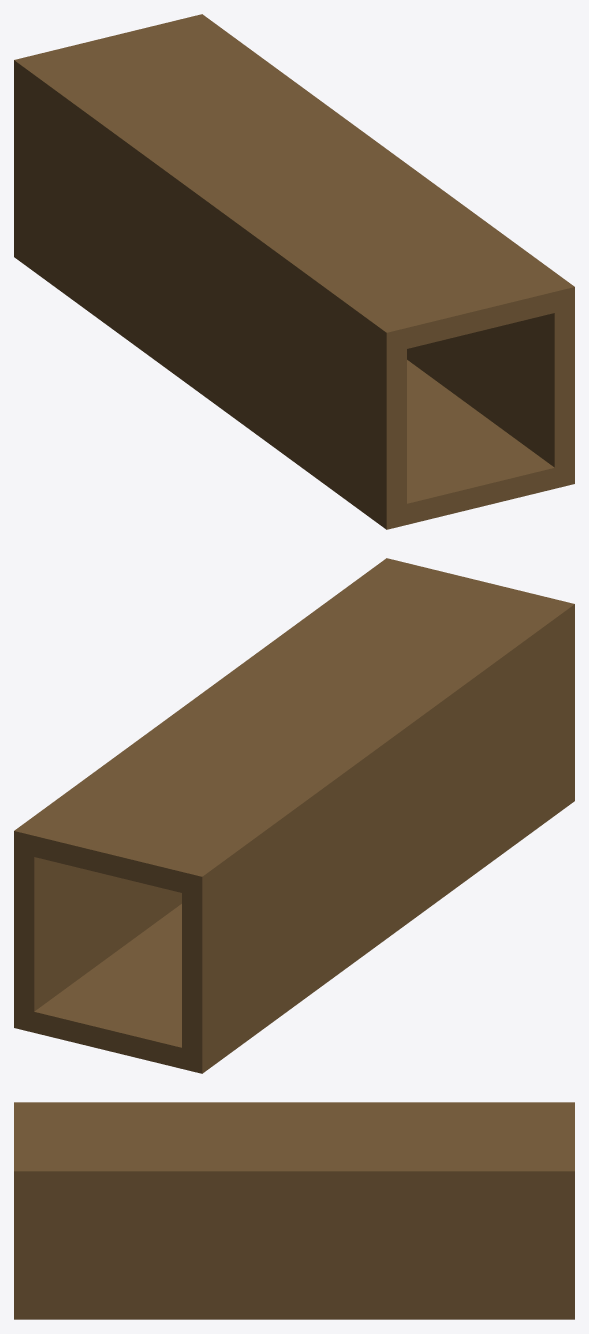
The model's file is fallen-tree.gltf.
The picture shows the model from 3 angles, top to bottom: view 1: azimuth 30°, elevation 25°; view 2: azimuth 150°, elevation 25°; view 3: azimuth 270°, elevation 25°; orthographic projection. The views are drawn at different scales.
Visible parts, largest first — view 1: main; view 2: main; view 3: main.
Boxes of the visible parts, left/top/right/bottom form: main: left=14, top=14, right=574, bottom=529; main: left=14, top=558, right=574, bottom=1073; main: left=14, top=1102, right=574, bottom=1319.
Size of the model in its own units: 0.875 by 0.875 by 3.
Materials: 1 (1 with a texture image).
